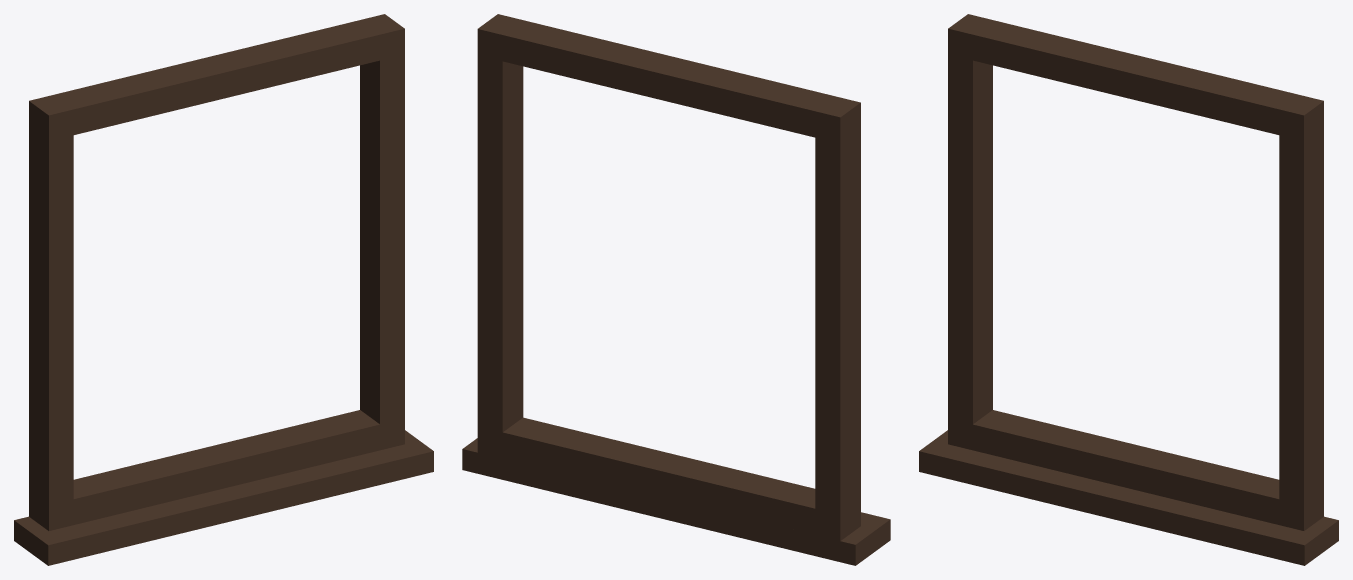
Rendered from shop_window.glb.
3 views of the same model, side by side, from view 1: azimuth 30°, elevation 25°; view 2: azimuth 150°, elevation 25°; view 3: azimuth 330°, elevation 25° (orthographic).
Visible parts, largest first — view 1: shop_window; view 2: shop_window; view 3: shop_window.
Part boxes in pixels (x1=…): shop_window: x1=14, y1=14, x2=433, y2=565; shop_window: x1=462, y1=14, x2=890, y2=565; shop_window: x1=919, y1=14, x2=1338, y2=565.
Bounding box in the file's own units: 0.78 × 0.8435 × 0.12.
